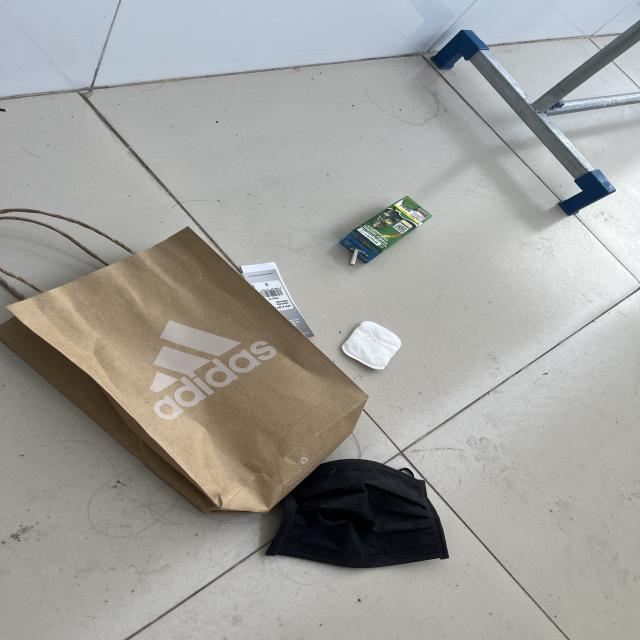bag: (0, 207, 364, 514)
mask: (264, 457, 451, 567)
milk box: (341, 197, 432, 266)
paper: (241, 261, 315, 339), (341, 321, 403, 371)
